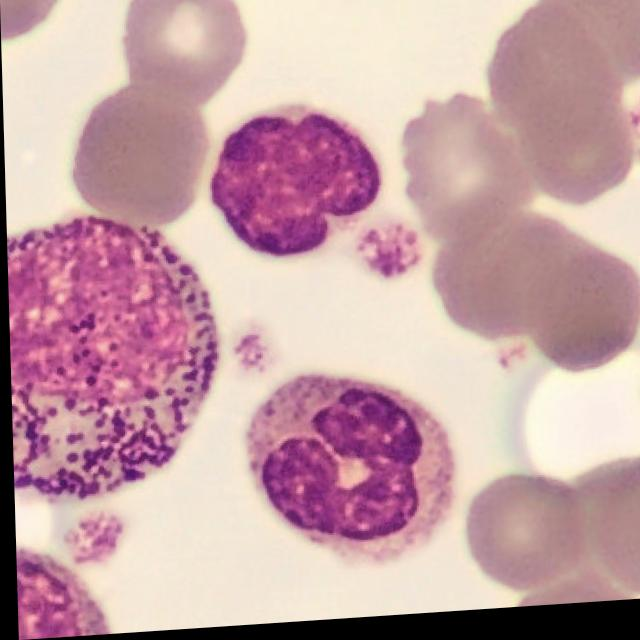Linfocito: (210, 112, 380, 259)
Neutrofilo segmentado: (240, 375, 454, 573)
Promielocito: (5, 216, 215, 500)
